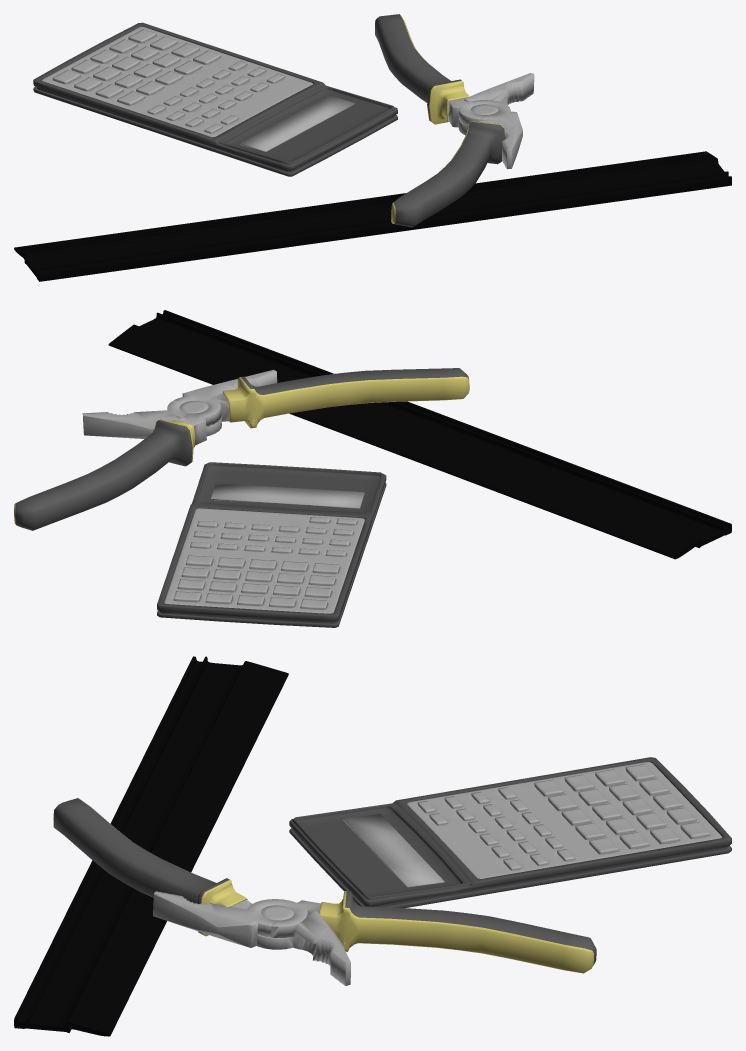
File: tools_other.fbx
The picture shows the model from 3 angles, top to bottom: view 1: azimuth 30°, elevation 25°; view 2: azimuth 150°, elevation 25°; view 3: azimuth 270°, elevation 25°; orthographic projection. The views are drawn at different scales.
Visible parts, largest first — view 1: Line01, Box01, plytka1, przy1, Cylinder01, Cylinder02, Box02; view 2: Line01, Box01, Cylinder02, plytka1, Cylinder01, przy1, Box02; view 3: Line01, Box01, Cylinder01, plytka1, przy1, Cylinder02, Box02.
Part boxes in pixels (bbox=[...]): Line01: bbox=[14, 151, 731, 281]; Box01: bbox=[33, 22, 397, 176]; plytka1: bbox=[42, 27, 312, 137]; przy1: bbox=[52, 29, 285, 133]; Cylinder01: bbox=[375, 14, 522, 169]; Cylinder02: bbox=[391, 73, 534, 227]; Box02: bbox=[240, 95, 355, 152]; Line01: bbox=[108, 310, 731, 559]; Box01: bbox=[157, 462, 386, 627]; Cylinder02: bbox=[82, 368, 469, 438]; plytka1: bbox=[164, 508, 364, 613]; Cylinder01: bbox=[14, 369, 277, 530]; przy1: bbox=[173, 517, 357, 609]; Box02: bbox=[211, 483, 364, 508]; Line01: bbox=[14, 656, 288, 1036]; Box01: bbox=[289, 757, 731, 907]; Cylinder01: bbox=[153, 891, 596, 973]; plytka1: bbox=[407, 762, 722, 878]; przy1: bbox=[417, 764, 709, 870]; Cylinder02: bbox=[53, 798, 350, 985]; Box02: bbox=[343, 813, 444, 888].
Size of the model in its own units: 311 by 19.9 by 255.
